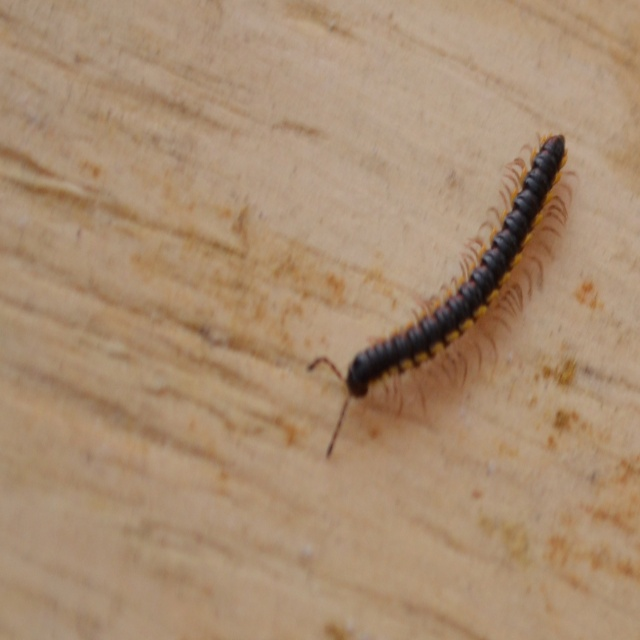Centipede: (308, 128, 576, 460)
